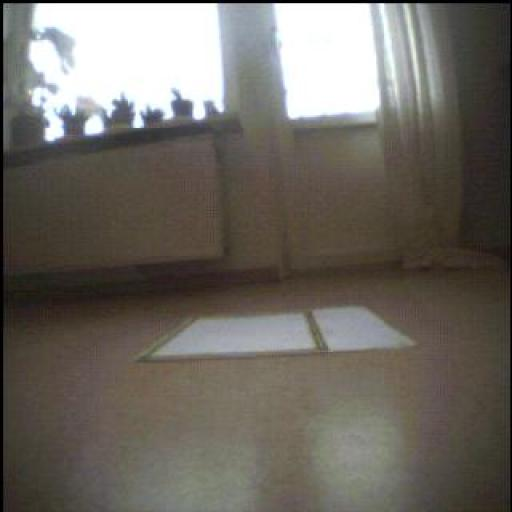Pad: (137, 305, 420, 363)
